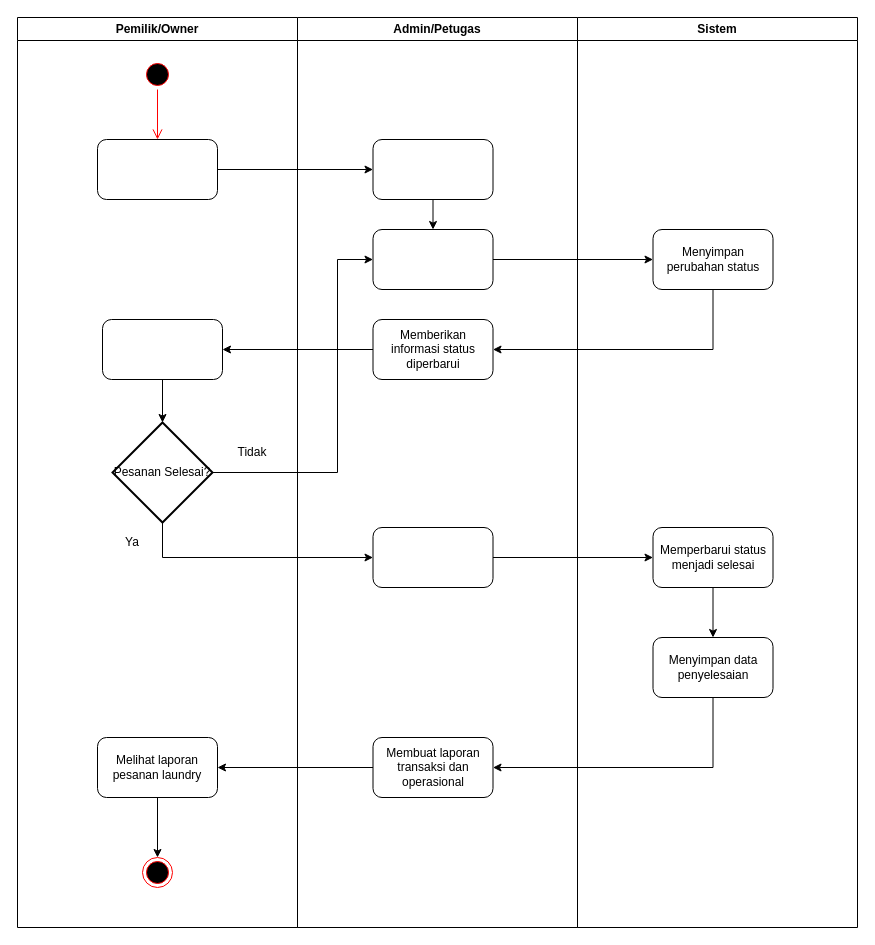
Some shapes in this 875 by 945 pixel diagram are drawn without their labels. Here are the shapes that lost their labels. From the top down, the box of each, then its label:
(96, 138, 218, 200): Melihat data pesanan dan status laundry
(372, 138, 493, 200): Mengelola proses pengerjaan laundry
(372, 228, 493, 290): Memperbarui status pesanan (mencuci, mengering, menyetrika)
(102, 318, 222, 380): Memantau proses laundry
(372, 526, 493, 588): Mencatat laundry selesai
